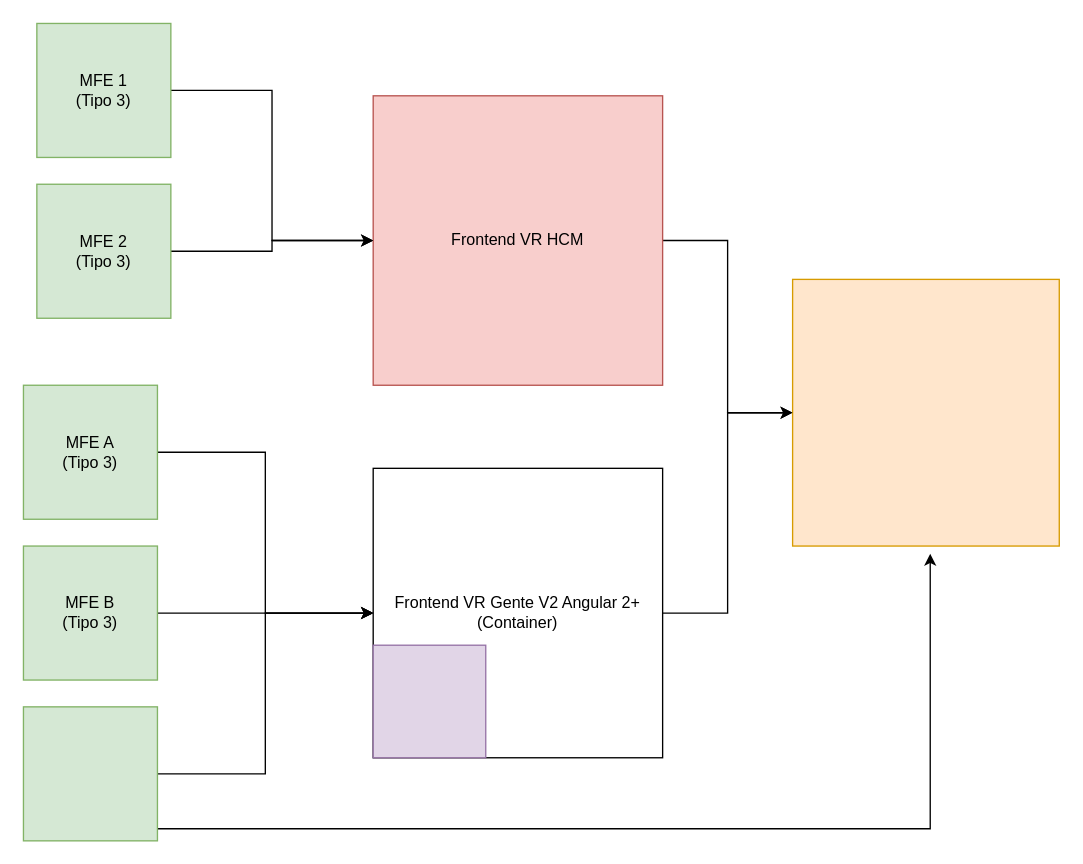
Image size: 1083x864. Some labels were removed from this diagram. The shapes that lost their labels are listed below. From the top down, each one's centre as x and y in pixels, then its label:
(925,412): Super Portal
(429,701): Frontend V1 Coffeescript
(89,773): MFE C (Tipo 2)
